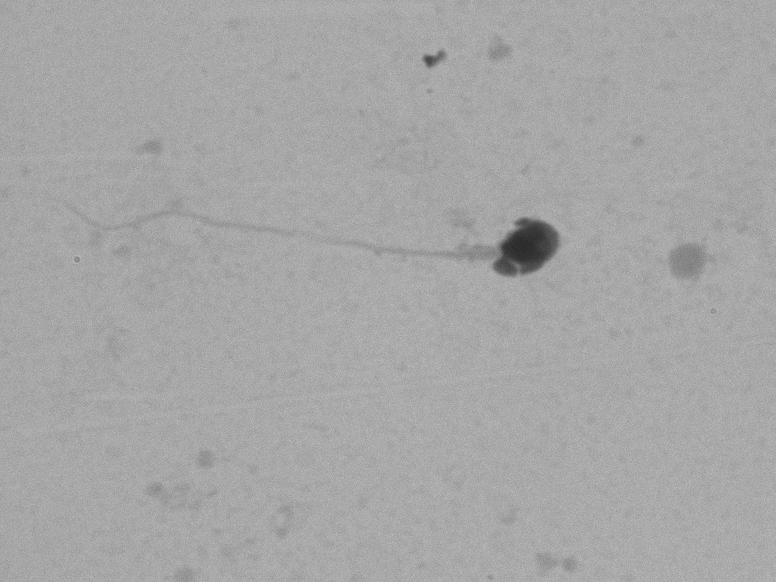Abnormal: (42, 154, 566, 311)
